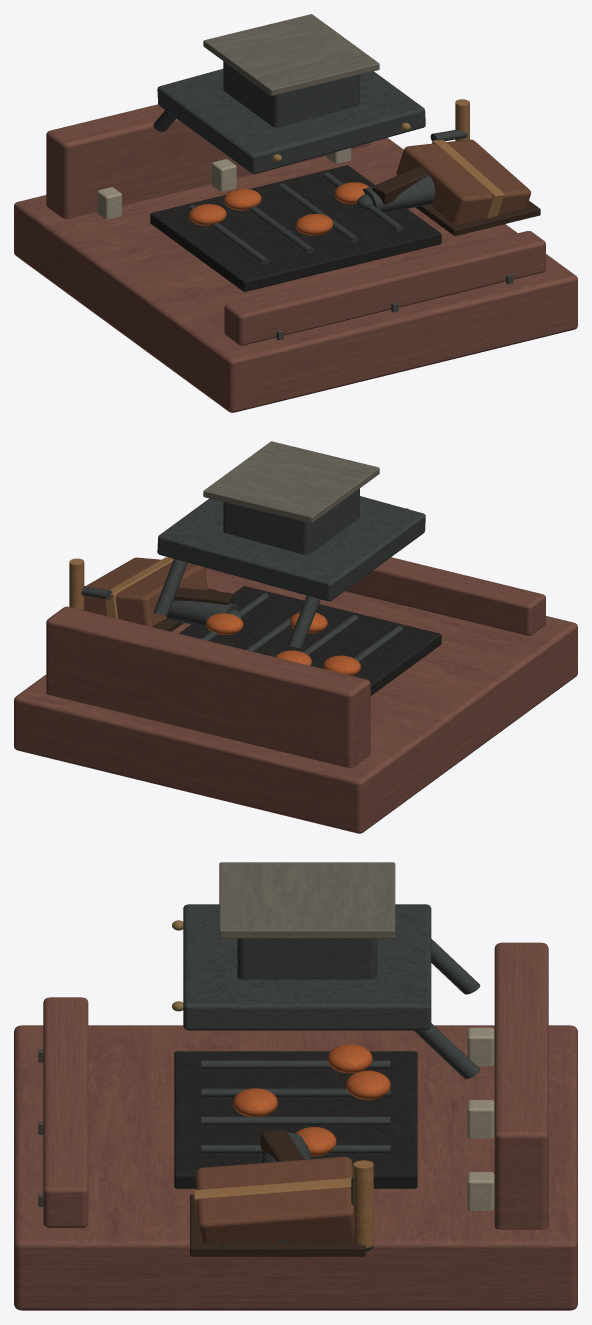
Rendered from forge.glb.
3 renders of one model, top to bottom at view 1: azimuth 30°, elevation 25°; view 2: azimuth 150°, elevation 25°; view 3: azimuth 270°, elevation 25°, orthographic. The views are drawn at different scales.
Parts seen in each view (by area): view 1: forge; view 2: forge; view 3: forge.
Part boxes in pixels (x1,y1,x2,y2): forge: (14,14,577,412); forge: (14,441,577,833); forge: (14,862,577,1310).
Bounding box in the file's own units: 3 × 1.8 × 3.
Materials: 1 (1 with a texture image).
